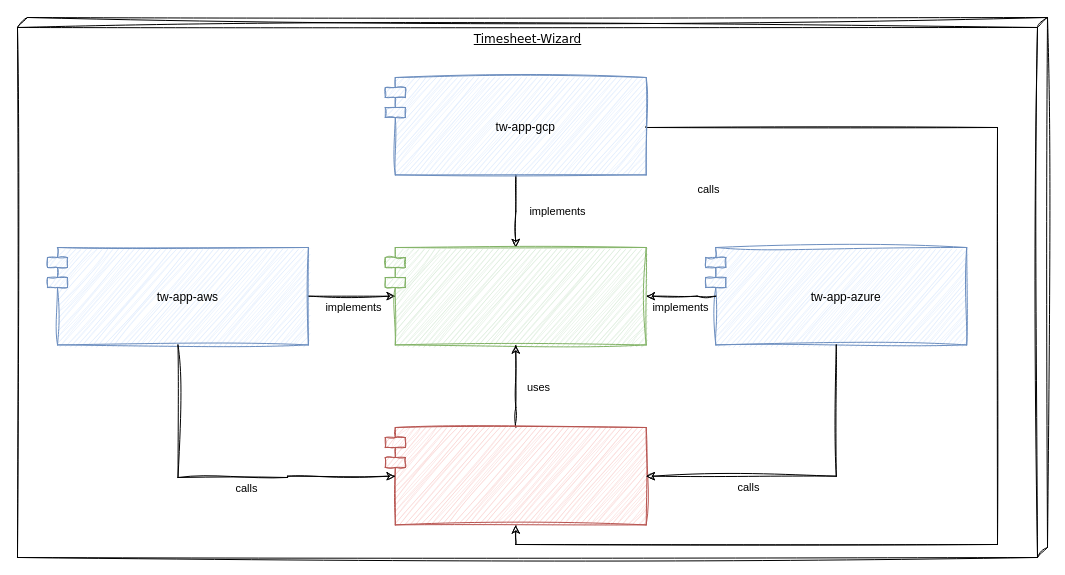
Some shapes in this 1065 by 575 pixel diagram are drawn without their labels. The shapes that lost their labels are listed below. From the top down, each one's centre as x and y in pixels, then its label:
At (515,295): "tw-spi".
At (515,475): "tw-core".
